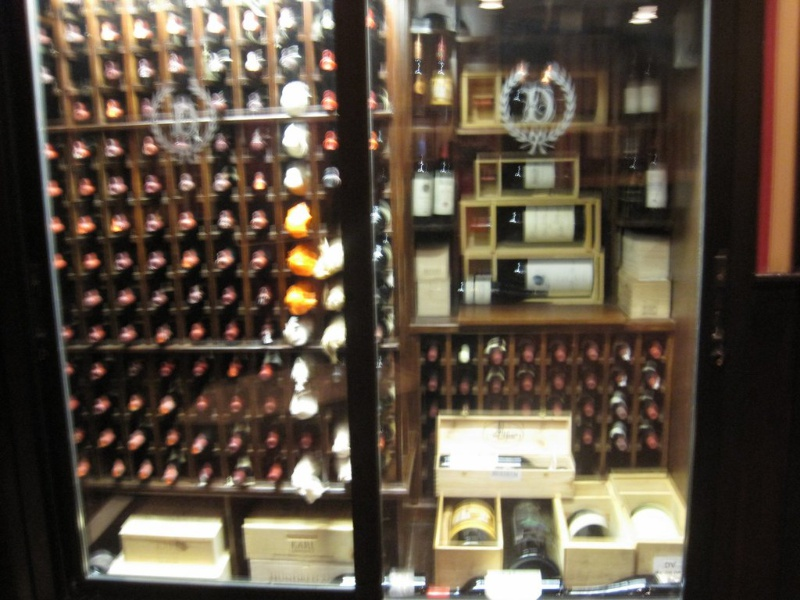wine: (32, 2, 397, 593), (402, 3, 705, 597)
